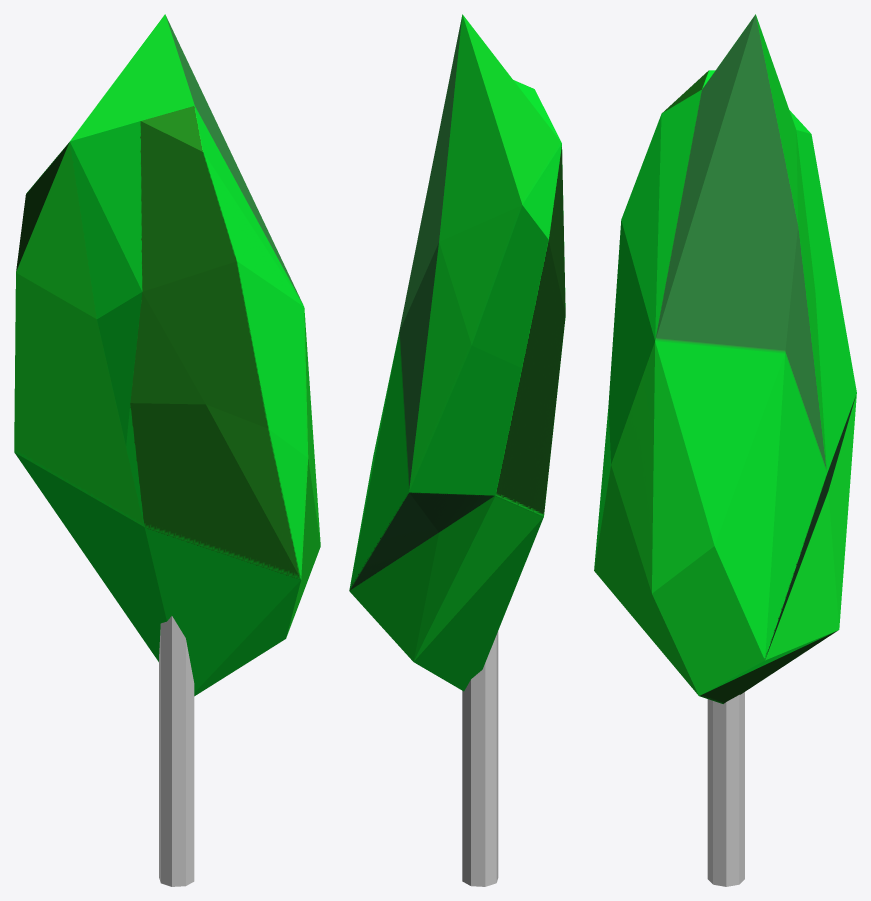
Rendered from Aspen.FBX.
3 views of the same model, side by side, from view 1: azimuth 30°, elevation 25°; view 2: azimuth 150°, elevation 25°; view 3: azimuth 270°, elevation 25° (orthographic). The views are drawn at different scales.
Parts seen in each view (by area): view 1: GeoSphere020, AspenTreen; view 2: GeoSphere020, AspenTreen; view 3: GeoSphere020, AspenTreen.
Part boxes in pixels (box(x1,y1,x2,y2)): GeoSphere020: box(14, 14, 320, 696); AspenTreen: box(159, 616, 194, 886); GeoSphere020: box(349, 14, 565, 691); AspenTreen: box(462, 631, 498, 886); GeoSphere020: box(594, 14, 856, 703); AspenTreen: box(707, 692, 744, 886).
Size of the model in its own units: 295 by 1039 by 286.
Materials: 1 (1 with a texture image).
